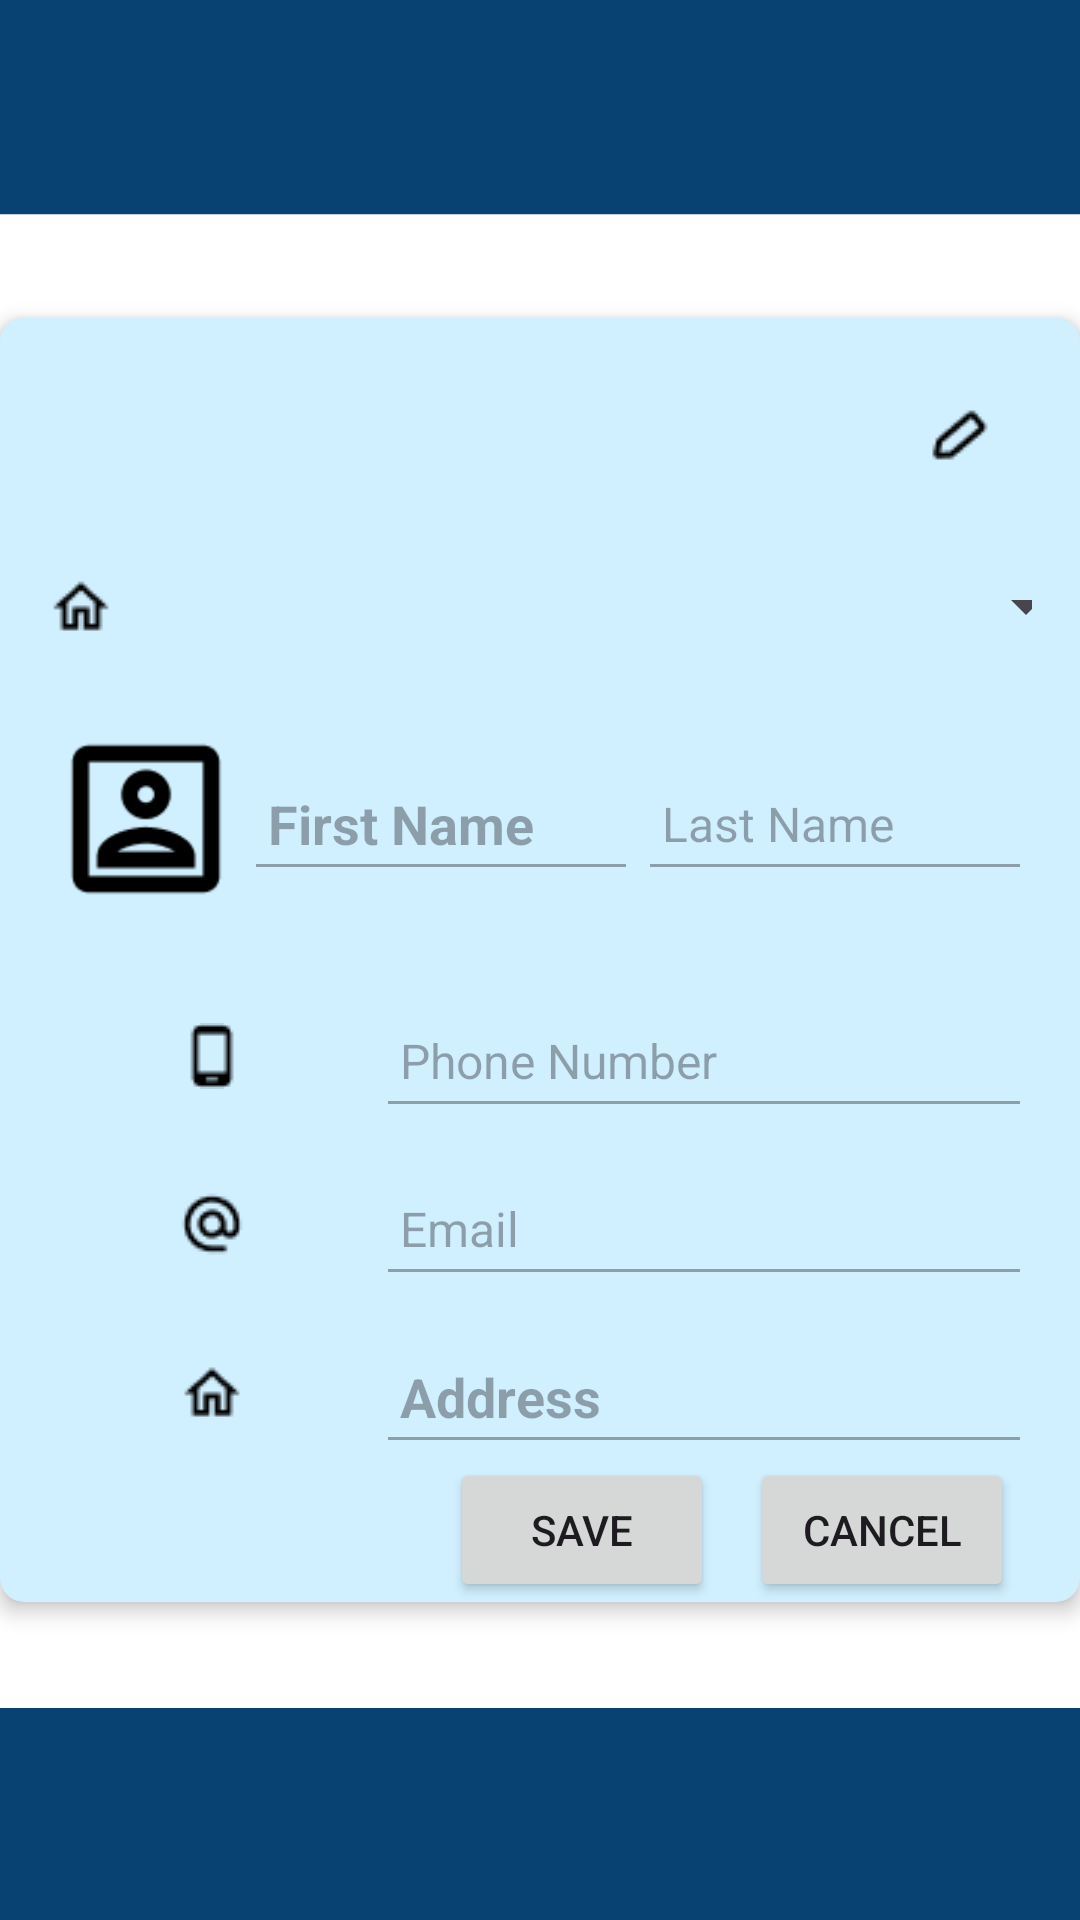

Where icons sit on this 1080×1920 app screen, as (x1, y1, x2, y2):
bahay: (53, 581, 109, 631), (184, 1367, 240, 1417)
edit3: (932, 410, 988, 460)
portrait: (71, 744, 221, 894)
